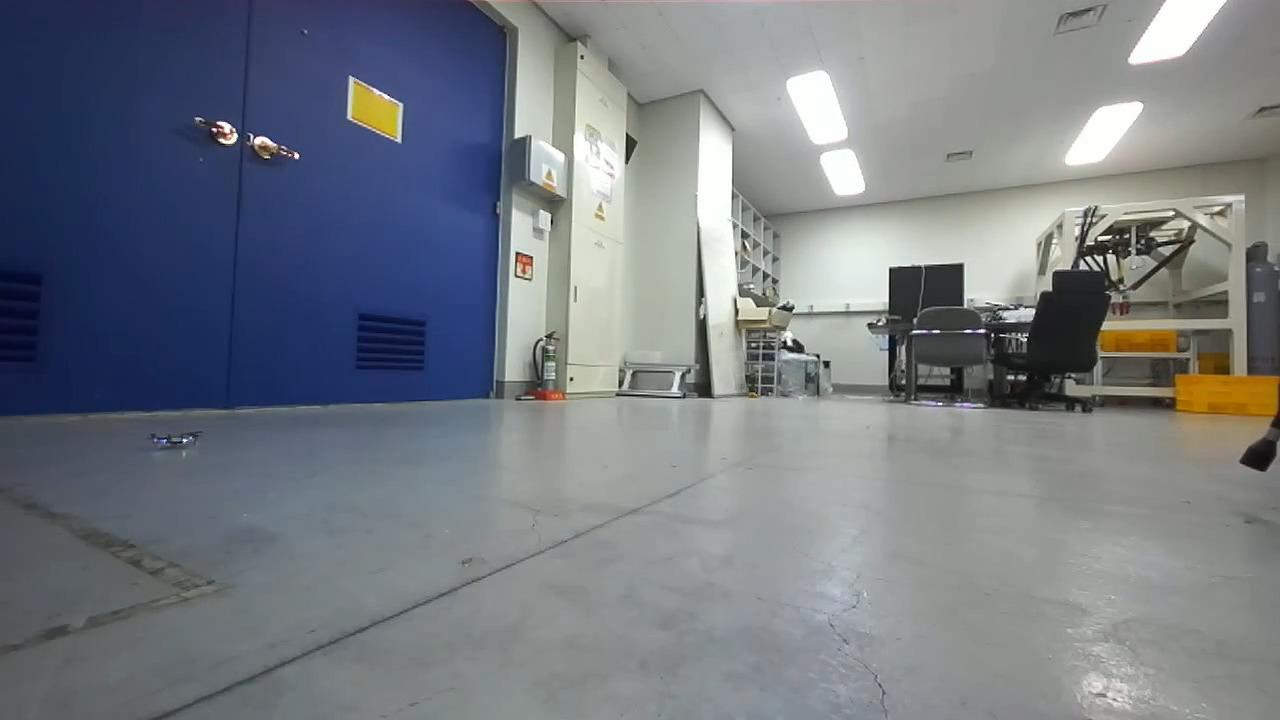crazyflie: (142, 424, 204, 454)
